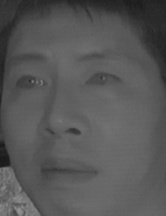eye: (85, 65, 126, 93), (12, 71, 48, 92)
mouth: (36, 150, 100, 193)
